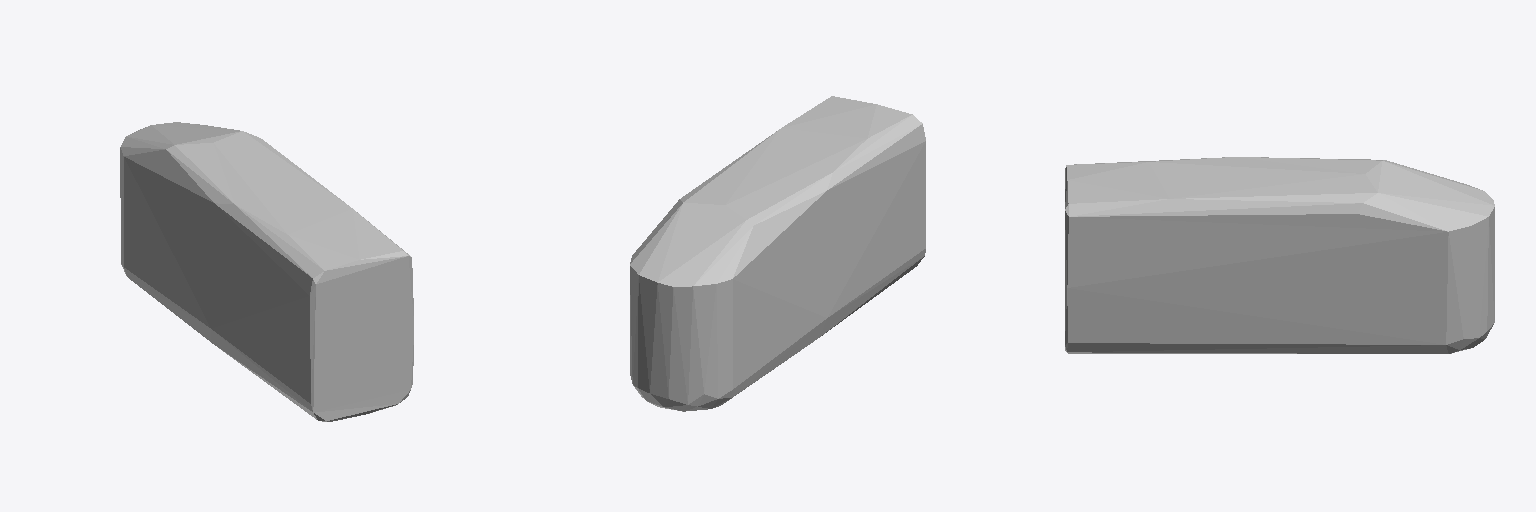
The model's file is arm_flex_collision.obj.
The picture shows the model from 3 angles: view 1: azimuth 30°, elevation 25°; view 2: azimuth 150°, elevation 25°; view 3: azimuth 270°, elevation 25°; orthographic projection.
Bounding box in the file's own units: 0.0763 × 0.1146 × 0.2725.